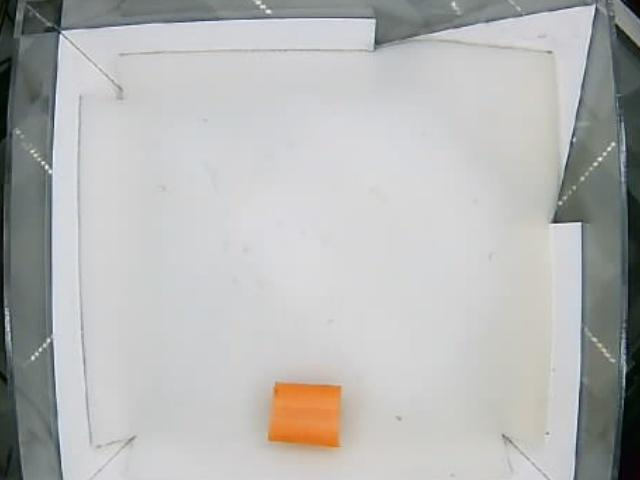Carrot: (264, 381, 347, 449)
